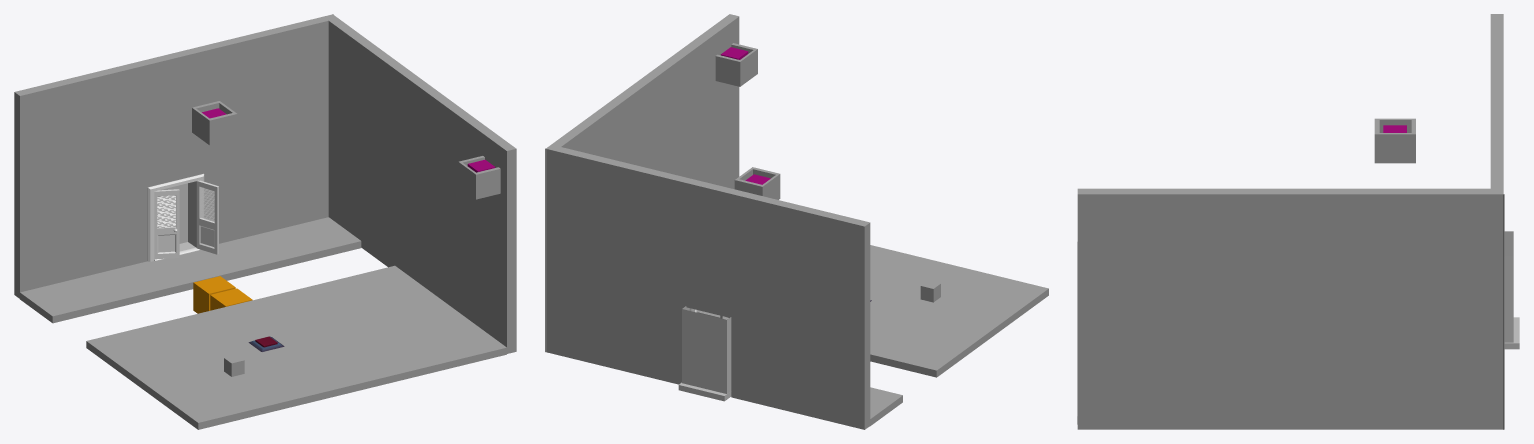
Rendered from BridgeBuildTutorial.fbx.
The picture shows the model from 3 angles, left to right: view 1: azimuth 30°, elevation 25°; view 2: azimuth 150°, elevation 25°; view 3: azimuth 270°, elevation 25°; orthographic projection. The views are drawn at different scales.
Visible parts, largest first — view 1: polySurface55, floor, polySurface57, polySurface56, floor1, polySurface58, polySurface28, polySurface5, openDoorFrame, pCube7, pCube10, pCube16 (+3 smaller); view 2: polySurface57, polySurface56, polySurface55, floor, polySurface58, openDoorInteractable, floor1, pCube17; view 3: polySurface55, polySurface56, polySurface57, pCube13, openDoorWallRight.
Boxes of the visible parts, left/top/right/bottom form: polySurface55: left=328, top=14, right=516, bottom=353; floor: left=86, top=265, right=506, bottom=429; polySurface57: left=14, top=59, right=153, bottom=298; polySurface56: left=193, top=14, right=333, bottom=247; floor1: left=19, top=217, right=361, bottom=323; polySurface58: left=148, top=48, right=198, bottom=185; polySurface28: left=154, top=189, right=179, bottom=259; polySurface5: left=196, top=180, right=218, bottom=254; openDoorFrame: left=147, top=173, right=204, bottom=261; pCube7: left=193, top=276, right=235, bottom=313; pCube10: left=207, top=112, right=237, bottom=145; pCube16: left=474, top=167, right=500, bottom=199; polySurface57: left=731, top=190, right=870, bottom=429; polySurface56: left=545, top=147, right=691, bottom=384; polySurface55: left=545, top=14, right=739, bottom=352; floor: left=697, top=245, right=1048, bottom=377; polySurface58: left=686, top=179, right=736, bottom=317; openDoorInteractable: left=682, top=309, right=726, bottom=393; floor1: left=870, top=387, right=902, bottom=426; pCube17: left=715, top=54, right=741, bottom=86; polySurface55: left=1077, top=188, right=1504, bottom=429; polySurface56: left=1490, top=115, right=1503, bottom=429; polySurface57: left=1490, top=14, right=1503, bottom=89; pCube13: left=1379, top=133, right=1411, bottom=163; openDoorWallRight: left=1504, top=256, right=1513, bottom=342.
Bounding box in the file's own units: 24.6 × 16.53 × 25.48.
Materials: 6 (1 with a texture image).
